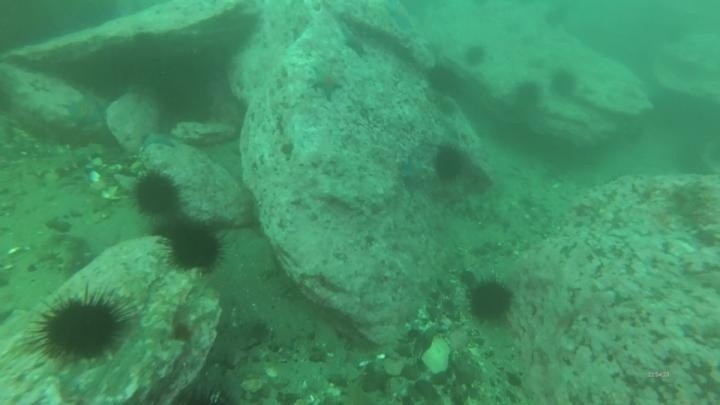echinus: (31, 290, 130, 365), (165, 223, 226, 274), (131, 170, 182, 218), (466, 277, 515, 325), (431, 143, 468, 183), (424, 63, 462, 97), (149, 216, 188, 245), (511, 79, 543, 112), (548, 67, 580, 99), (462, 42, 489, 69)
holothurian: (16, 142, 105, 181), (54, 234, 95, 281)
starfish: (62, 94, 106, 129), (308, 64, 346, 100), (397, 154, 431, 192), (383, 2, 416, 32), (341, 31, 370, 58), (140, 130, 180, 148)
